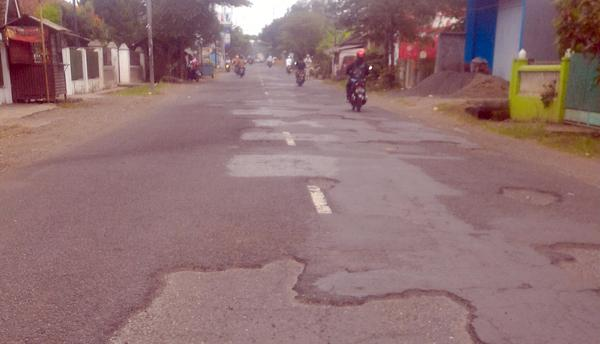Pothole: (119, 224, 475, 344), (477, 152, 600, 307), (284, 83, 470, 160), (278, 167, 349, 200)
